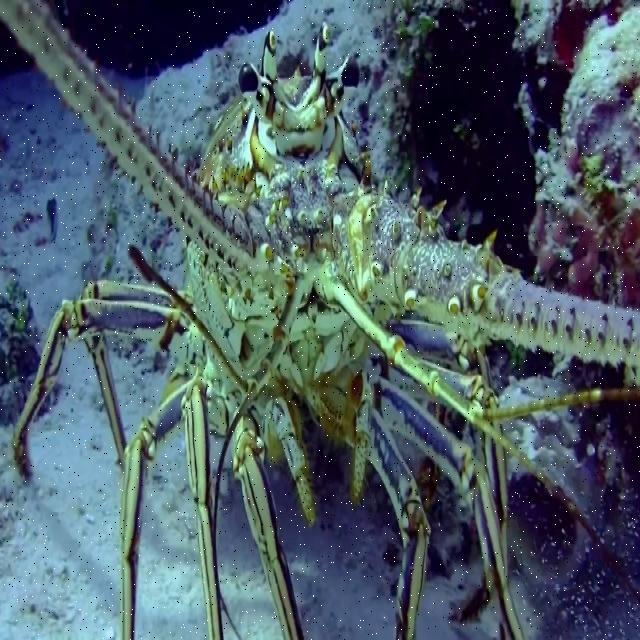reefs: (0, 1, 639, 639)
